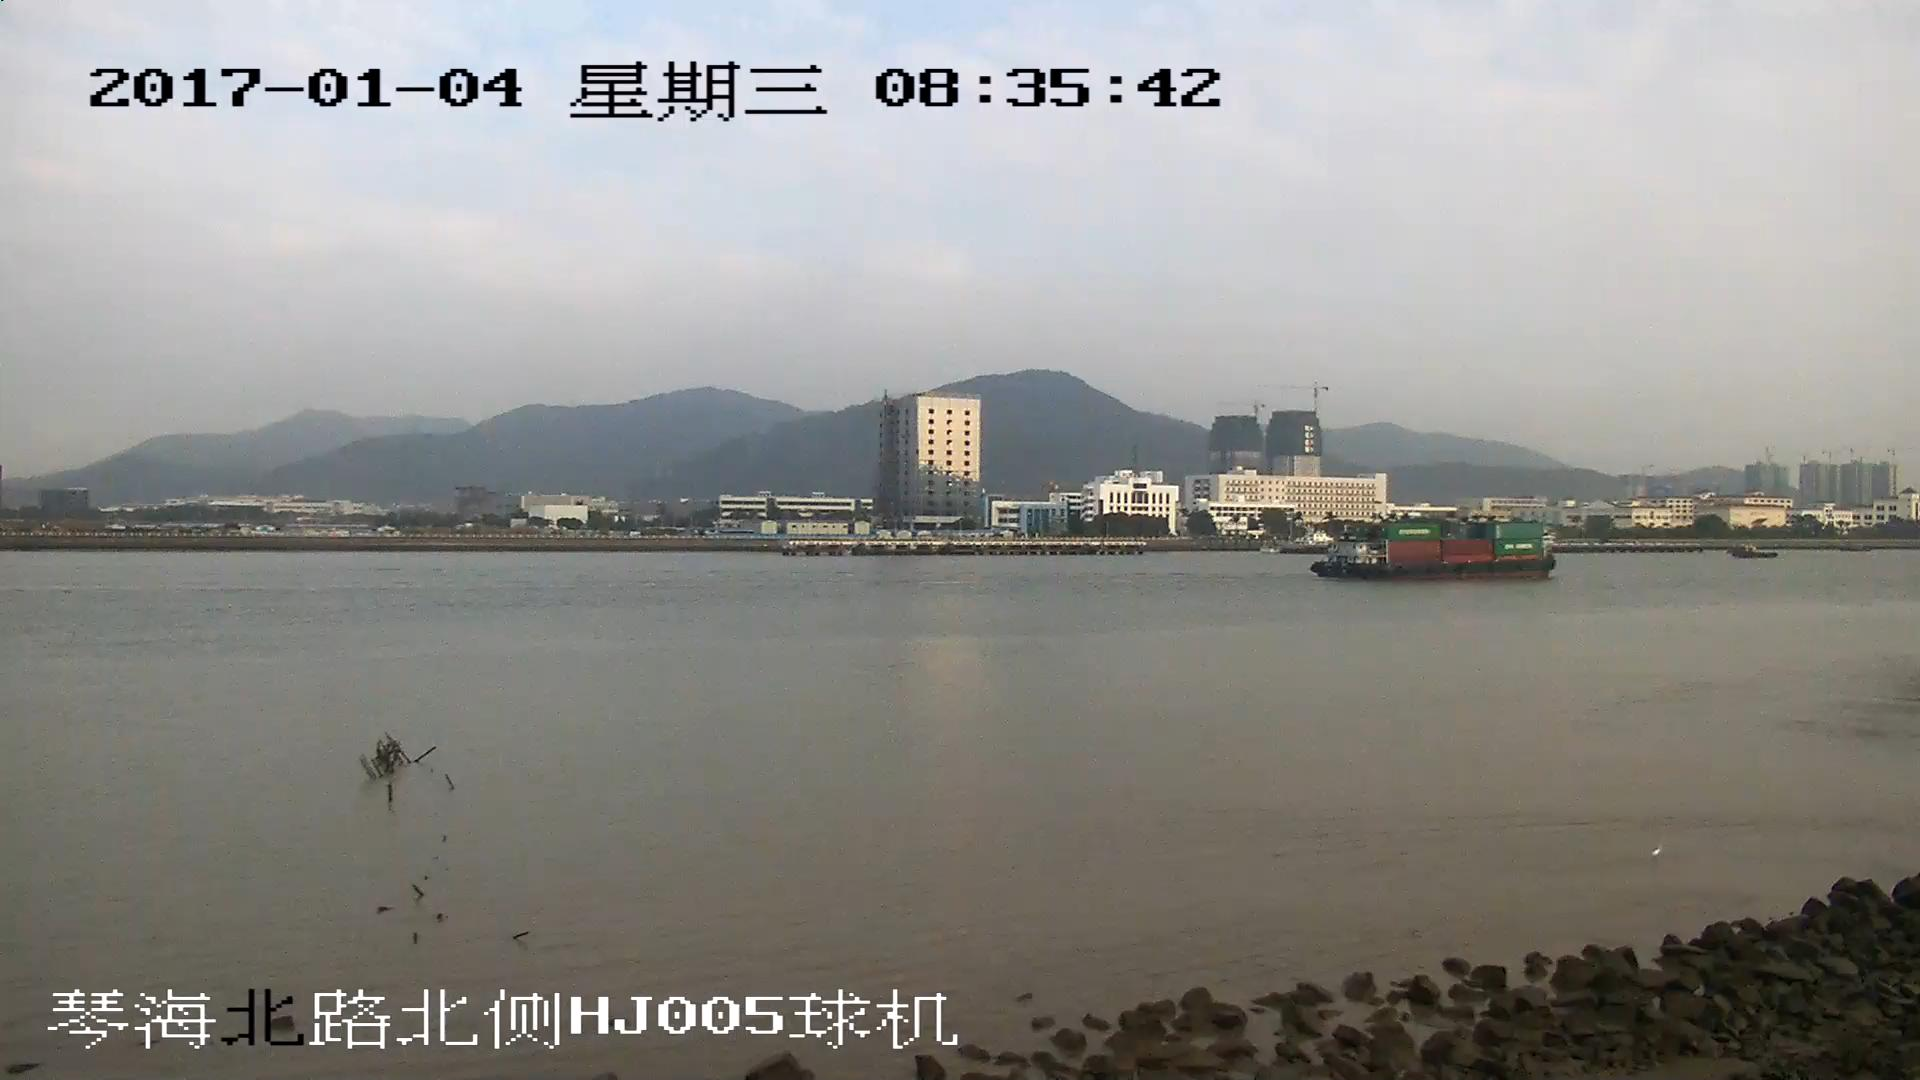container ship: (1321, 522, 1554, 577)
